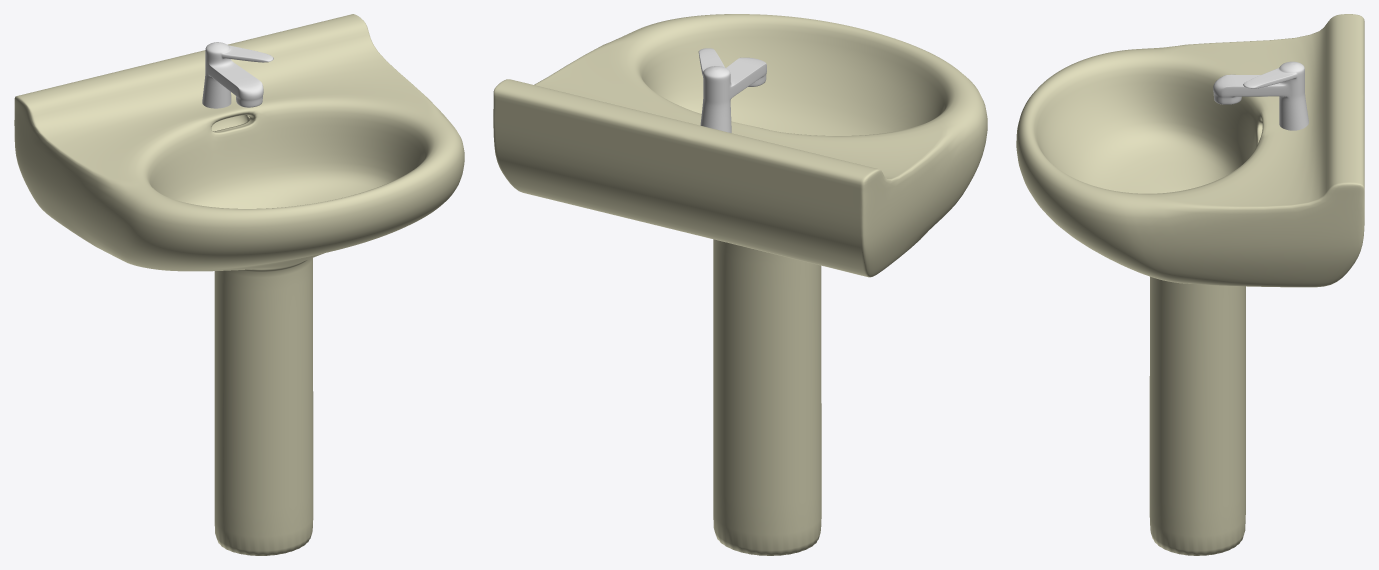
File: sink2.glb
3 renders of one model, left to right at view 1: azimuth 30°, elevation 25°; view 2: azimuth 150°, elevation 25°; view 3: azimuth 270°, elevation 25°, orthographic. The views are drawn at different scales.
Visible parts, largest first — view 1: Cylinder01_Geo_0; view 2: Cylinder01_Geo_0; view 3: Cylinder01_Geo_0.
Part boxes in pixels (bbox=[...]): Cylinder01_Geo_0: bbox=[14, 14, 464, 555]; Cylinder01_Geo_0: bbox=[493, 14, 987, 555]; Cylinder01_Geo_0: bbox=[1016, 14, 1364, 555].
Size of the model in its own units: 25.13 by 32.56 by 21.68.
